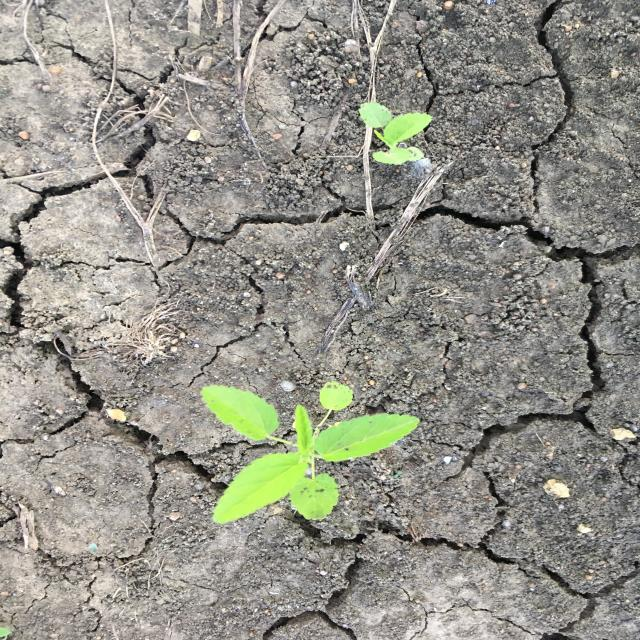PricklySida: (199, 380, 422, 526), (356, 101, 435, 166)
